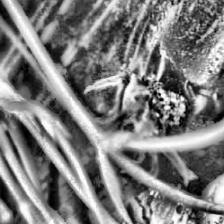Gray Mold: (84, 73, 195, 184)
